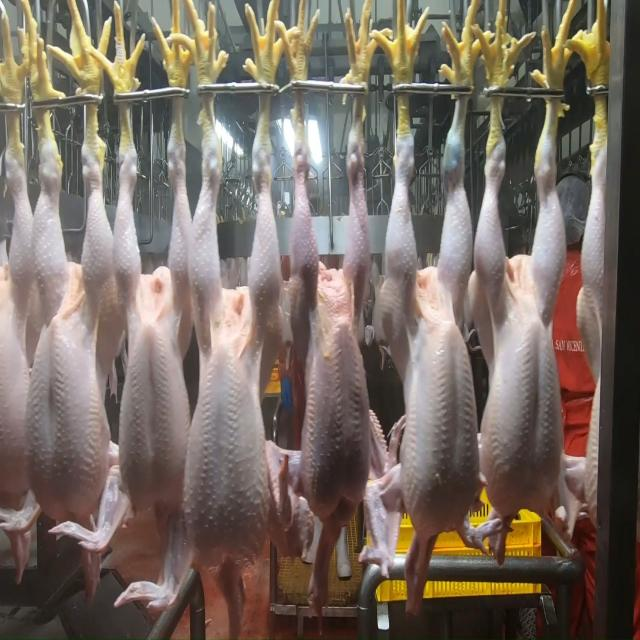chicken: (382, 122, 478, 544), (188, 117, 274, 567), (478, 147, 571, 528), (288, 140, 376, 532), (108, 132, 194, 521), (34, 128, 104, 530), (0, 164, 36, 526)
